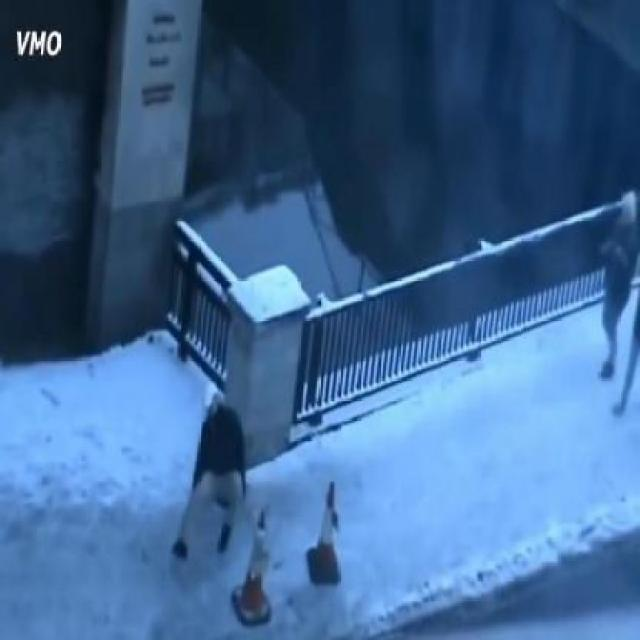fall: (176, 392, 247, 556)
